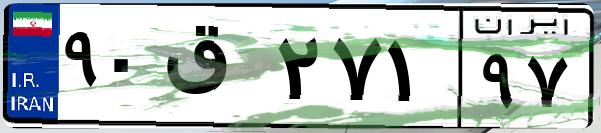0: (110, 28, 158, 98)
1: (385, 28, 445, 110)
2: (270, 28, 330, 110)
7: (330, 28, 385, 110), (525, 38, 570, 115)
9: (57, 26, 110, 100), (475, 38, 525, 113)
ق: (158, 20, 270, 120)
